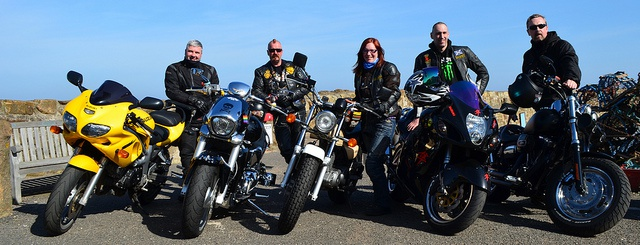non-vehicle: (487, 55, 632, 238), (41, 69, 188, 238), (381, 65, 519, 240), (273, 50, 382, 236), (176, 66, 277, 237)
